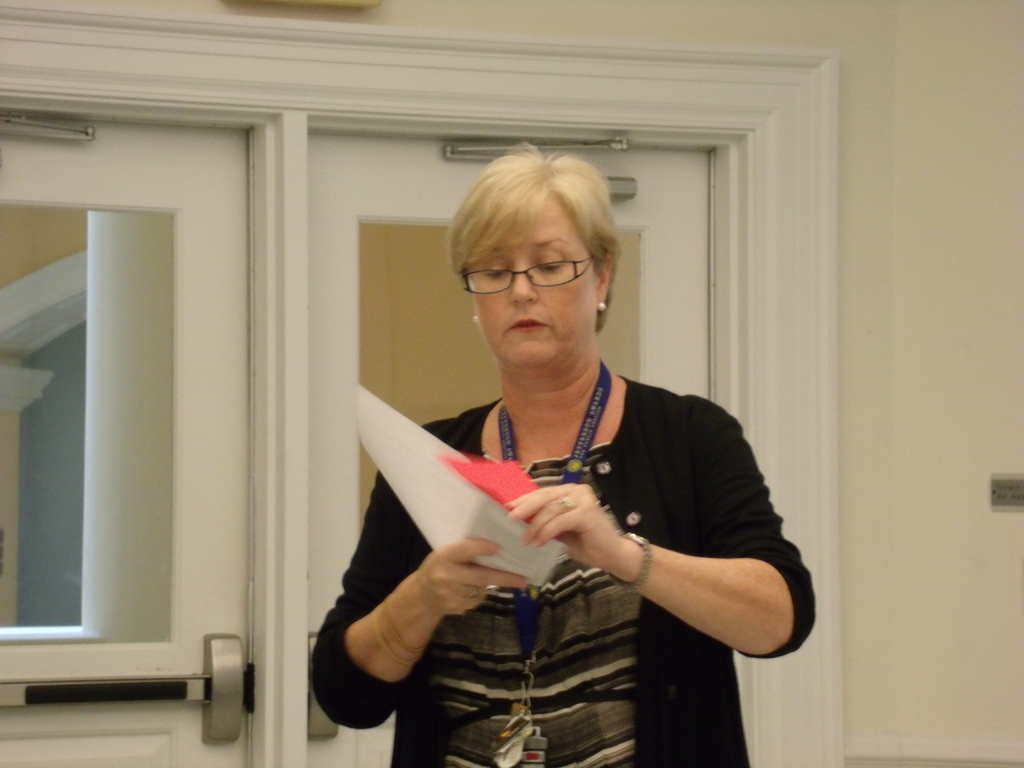door: (334, 155, 722, 738), (10, 118, 270, 768)
handle: (18, 674, 221, 716)
